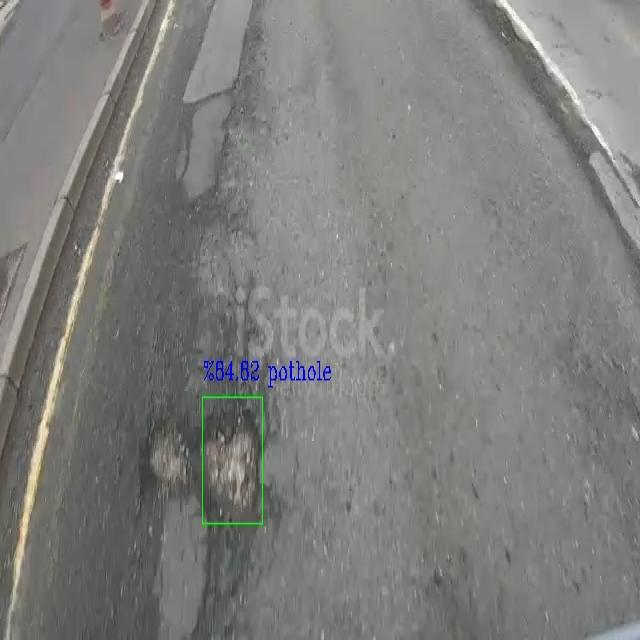pothole: (206, 399, 262, 521), (139, 393, 196, 510)
